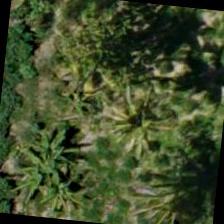Kelapa_Sawit: (85, 69, 184, 168), (121, 159, 219, 223)
